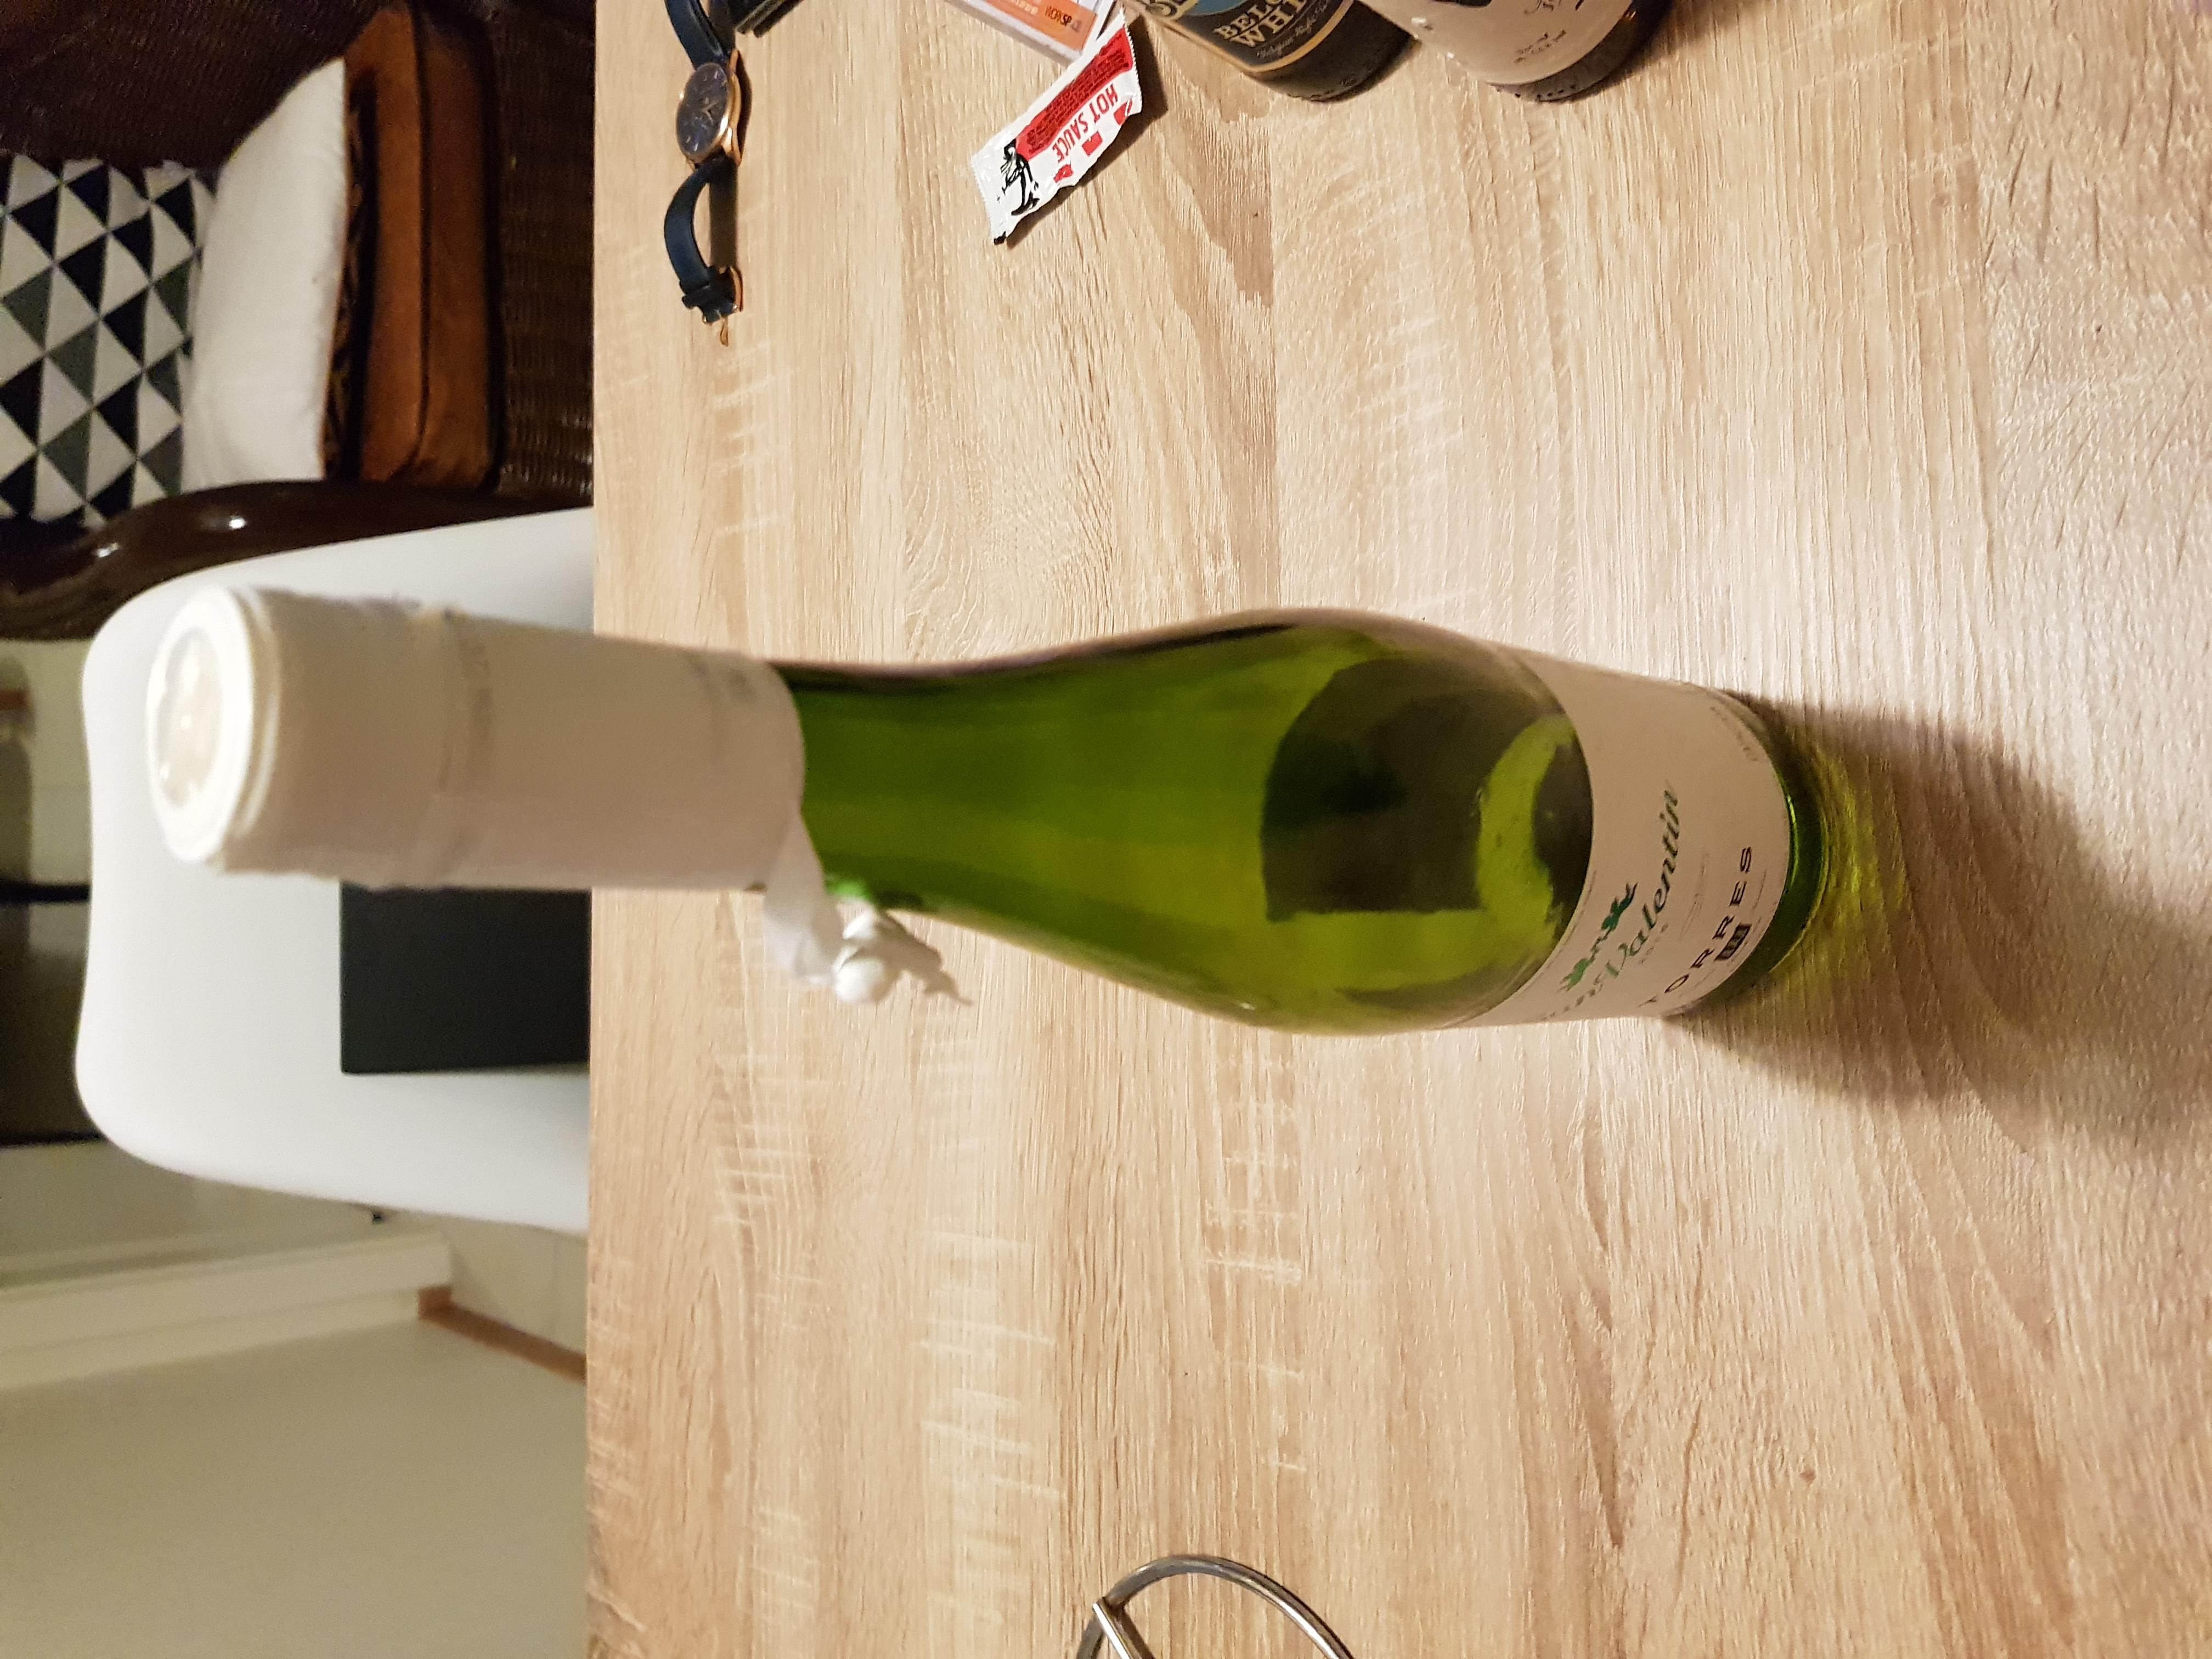Bottle: (141, 584, 1817, 1028)
